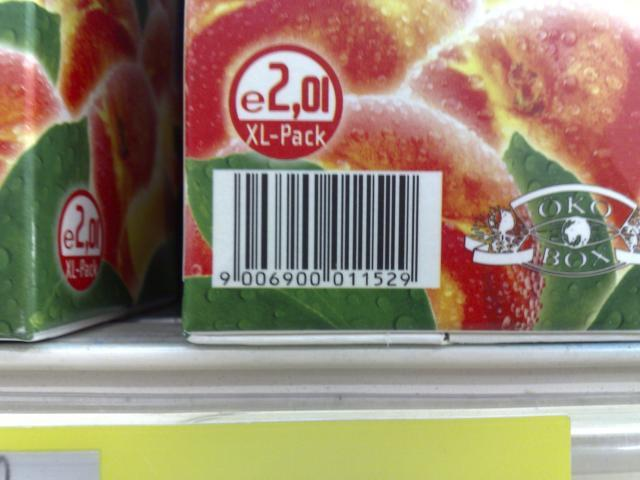Barcode: (213, 169, 430, 288)
